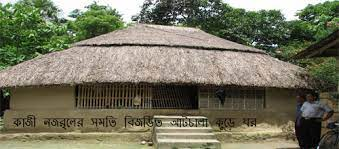Mud House: (5, 13, 304, 142)
